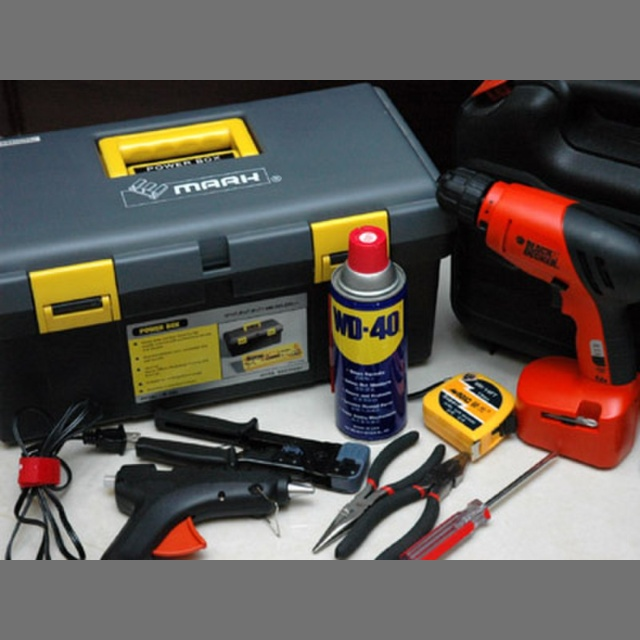drill: (434, 163, 638, 471)
screwdriver: (398, 449, 561, 559)
